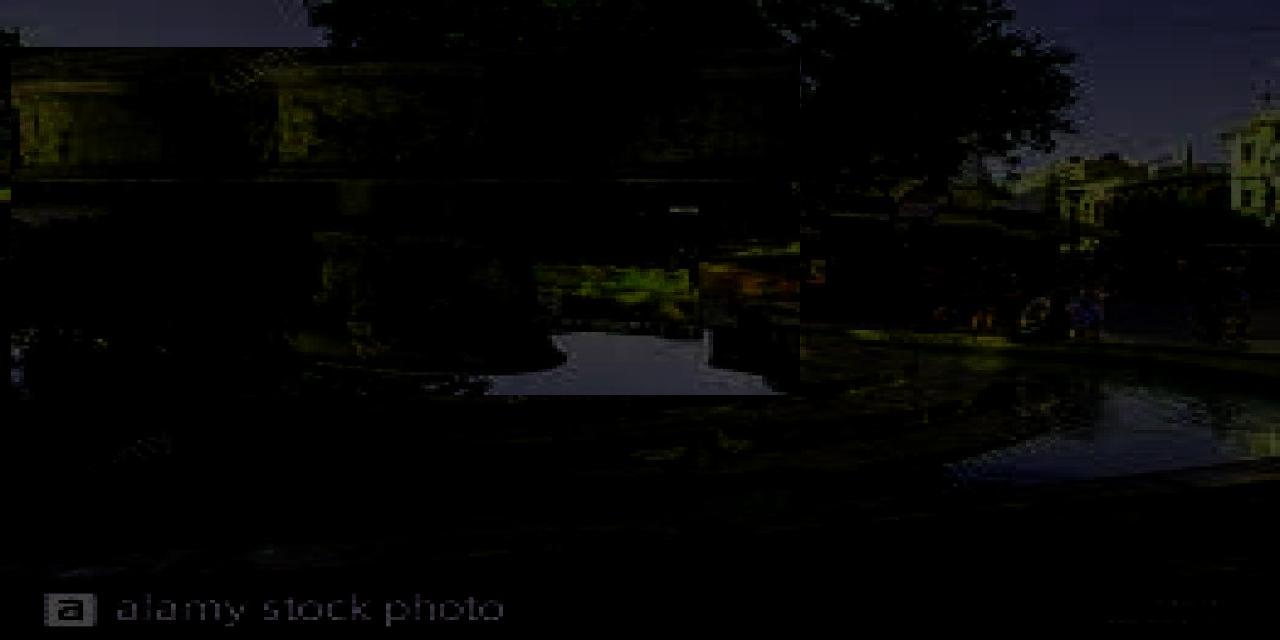Liontaria: (12, 48, 801, 396)
